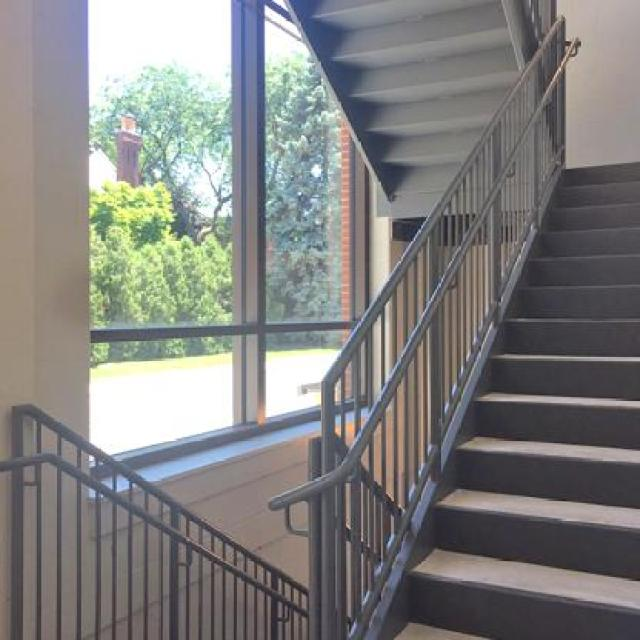stair: (254, 0, 640, 638)
